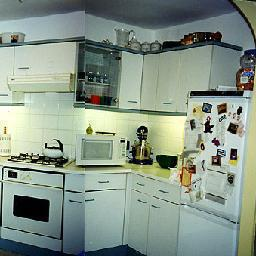Electrodomestico: (177, 98, 252, 253), (5, 156, 63, 250)
